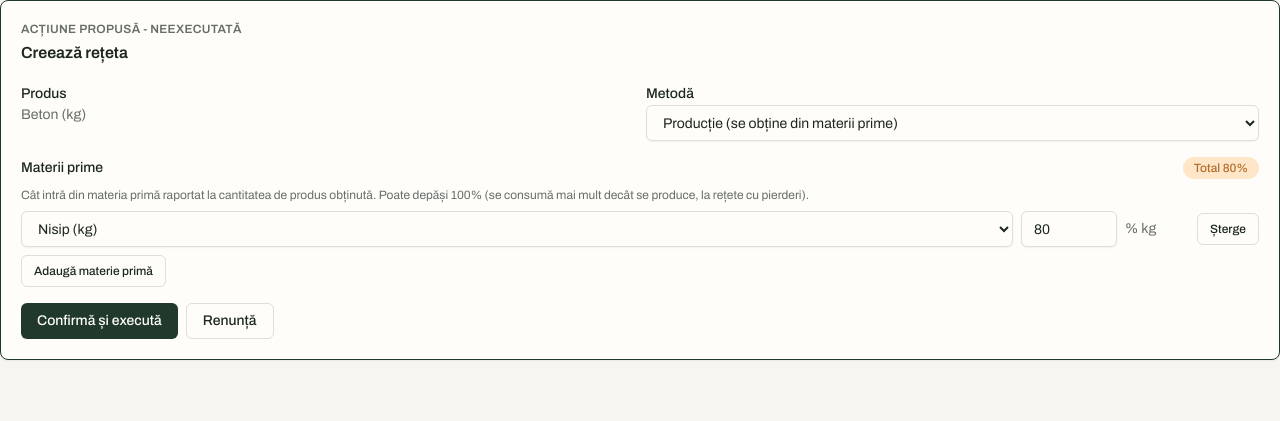
it: ActionCard - randerul recipe_draft › confirmarea e blocata cat timp un rand e incomplet
The width and height of the screenshot is (1280, 421).
Click the button "Adaugă materie primă": (93, 271) x1=21 y1=255 x2=166 y2=287
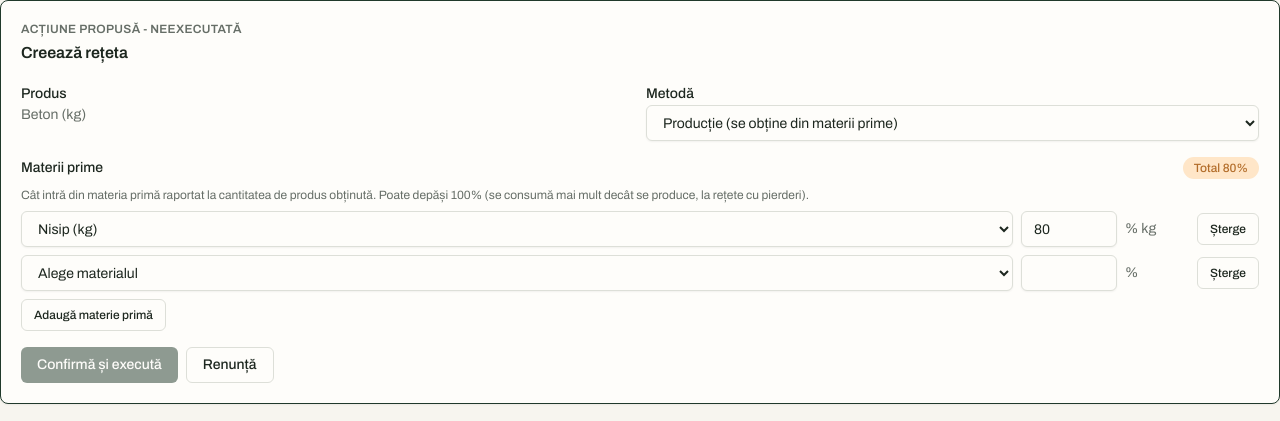
Check: the button "Confirmă și execută" is disabled, box x1=21 y1=347 x2=178 y2=383
